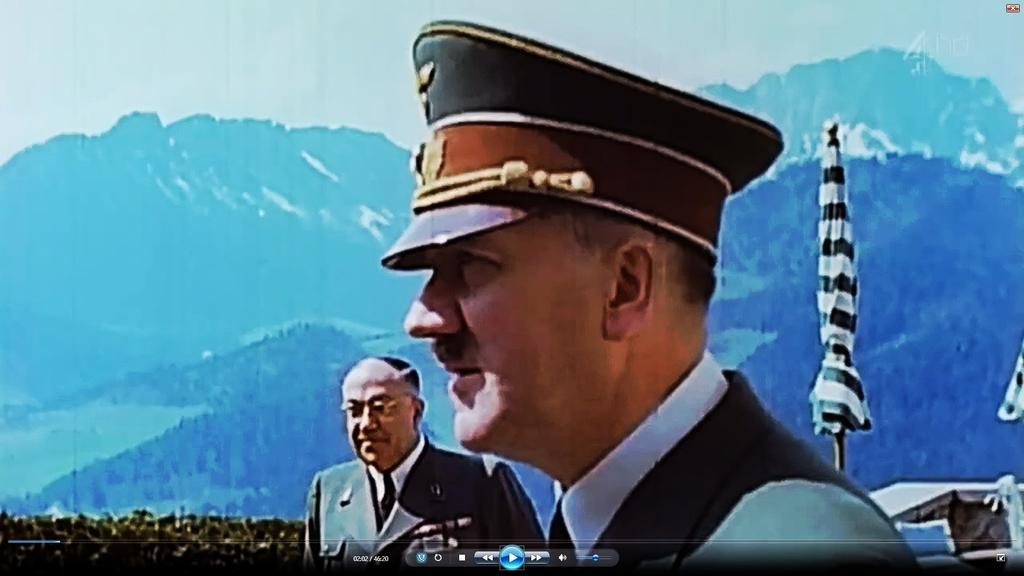Hat: (377, 21, 785, 270)
